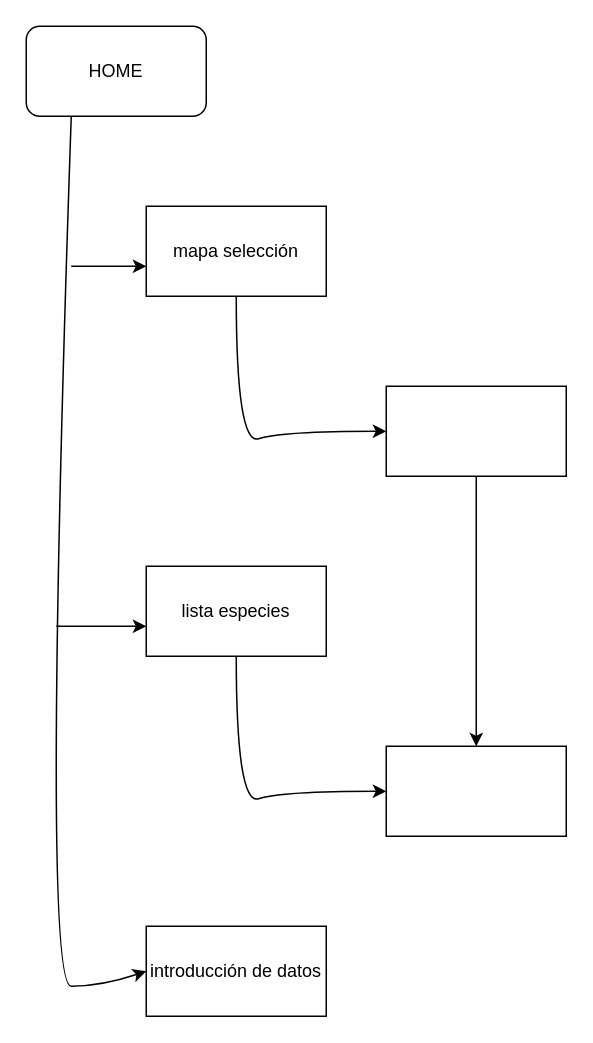
Image size: 593x1043. Some labels were removed from this diagram. The shapes that lost their labels are listed below. From the top down, each one's centre as x and y in pixels, then its label:
At (x=475, y=430): "lista especies del municipio seleccionado".
At (x=475, y=790): "datos especie seleccionada".
